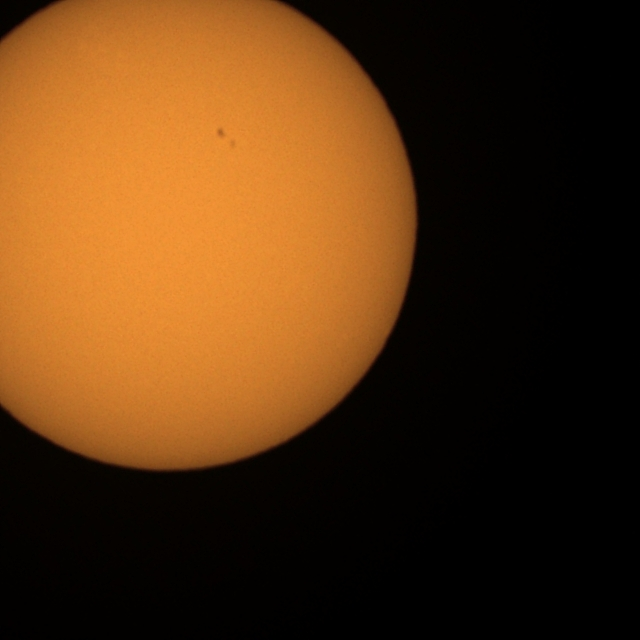sunspot: (215, 127, 237, 149)
